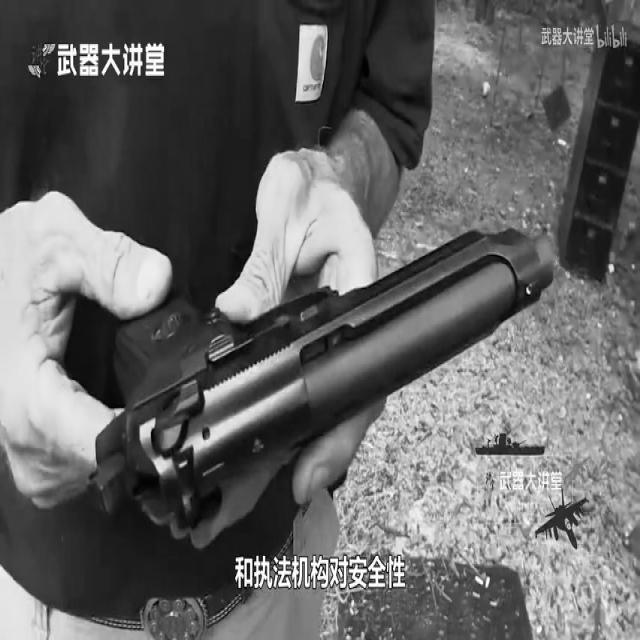Hand-Gun: (97, 119, 580, 576)
